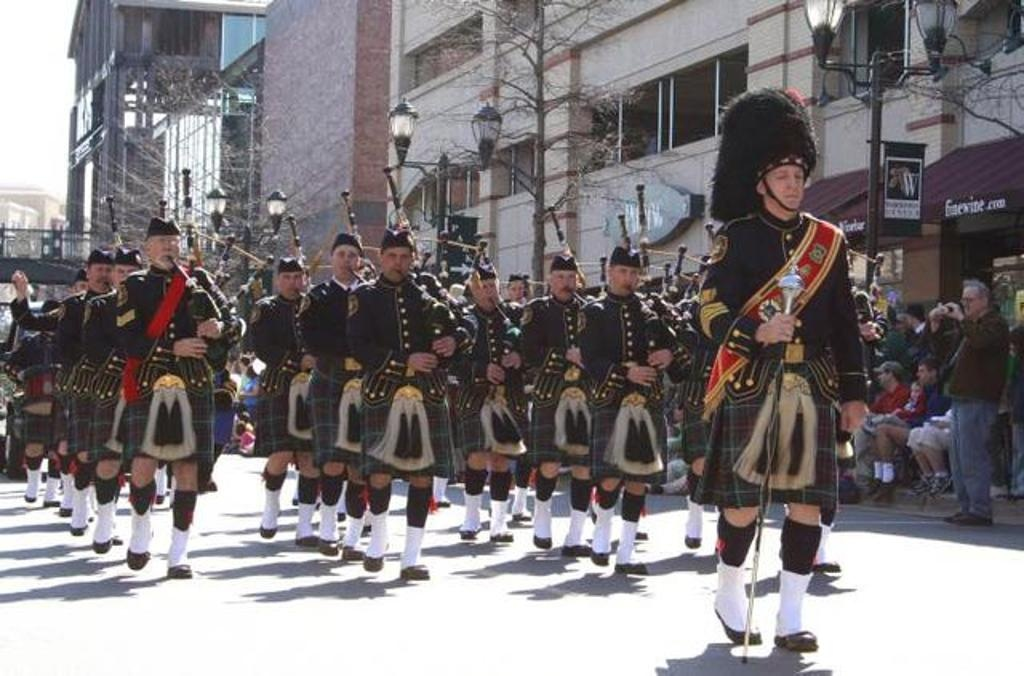human_face: (766, 156, 804, 208), (150, 234, 178, 270), (470, 276, 498, 312), (332, 245, 360, 277), (384, 248, 410, 280), (551, 270, 577, 302), (612, 263, 636, 297), (113, 263, 139, 293), (279, 270, 303, 300), (90, 260, 112, 291), (960, 287, 982, 317), (852, 311, 872, 335), (71, 280, 91, 302), (507, 280, 523, 300), (916, 365, 930, 387), (876, 368, 890, 384), (1014, 297, 1024, 319), (910, 386, 922, 401), (893, 320, 905, 332), (904, 312, 914, 326), (604, 128, 614, 140), (641, 131, 649, 143), (622, 145, 630, 157)
